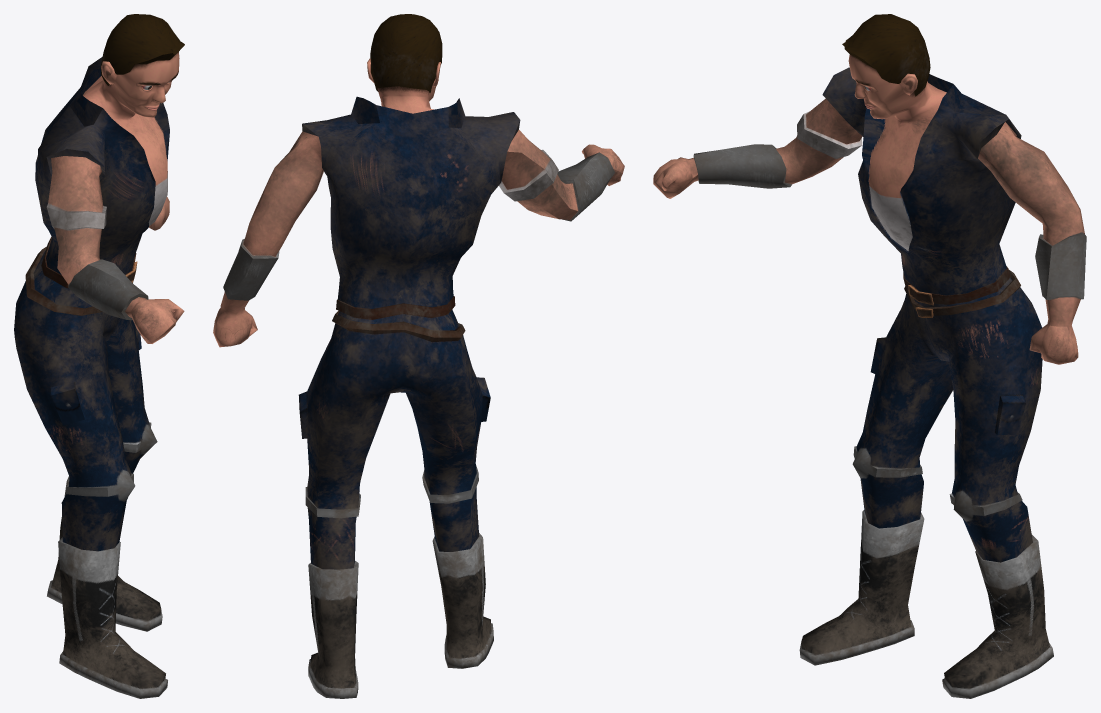
The model's file is Anim_puerta_mal_jugador.0028.obj.
3 views of the same model, side by side, from view 1: azimuth 30°, elevation 25°; view 2: azimuth 150°, elevation 25°; view 3: azimuth 270°, elevation 25° (orthographic). The views are drawn at different scales.
Visible parts, largest first — view 1: polySurface1; view 2: polySurface1; view 3: polySurface1.
Part boxes in pixels (box(x1,y1,x2,y2)): polySurface1: box(14, 14, 184, 698); polySurface1: box(213, 14, 624, 698); polySurface1: box(653, 14, 1086, 698).
Size of the model in its own units: 3.56 by 9.43 by 5.67.
